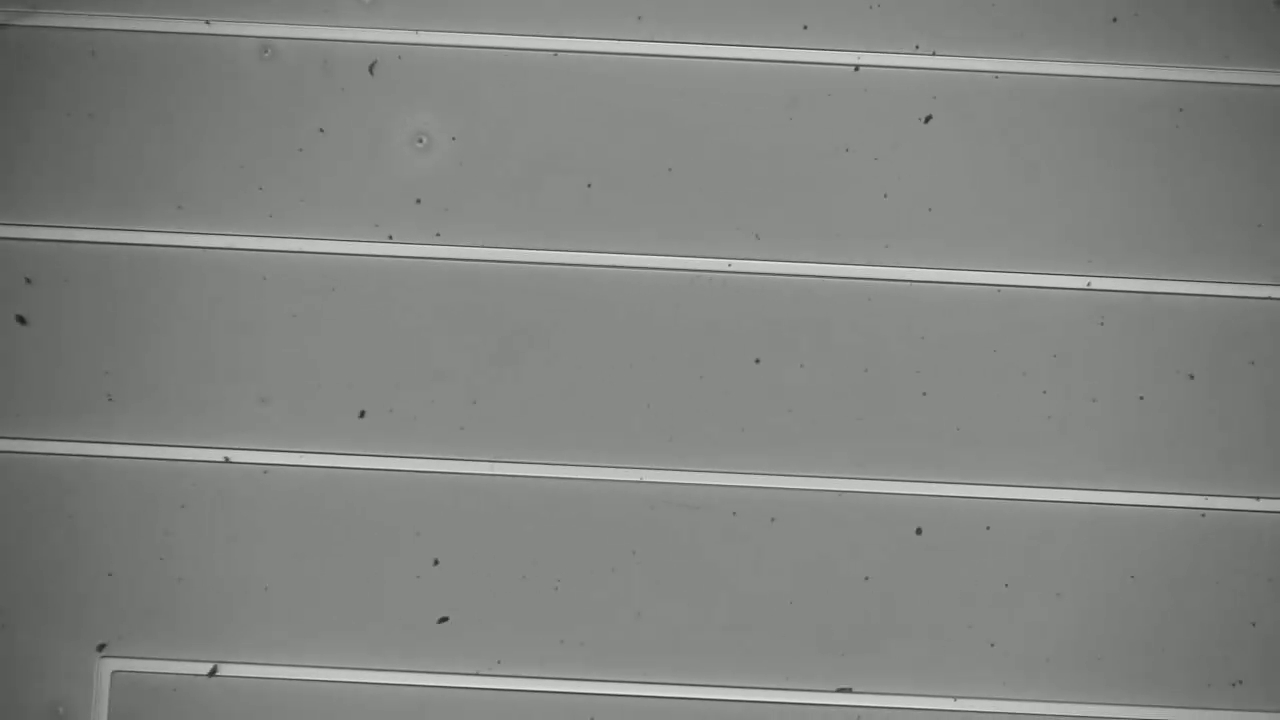stains_enbedded: (199, 652, 233, 688)
